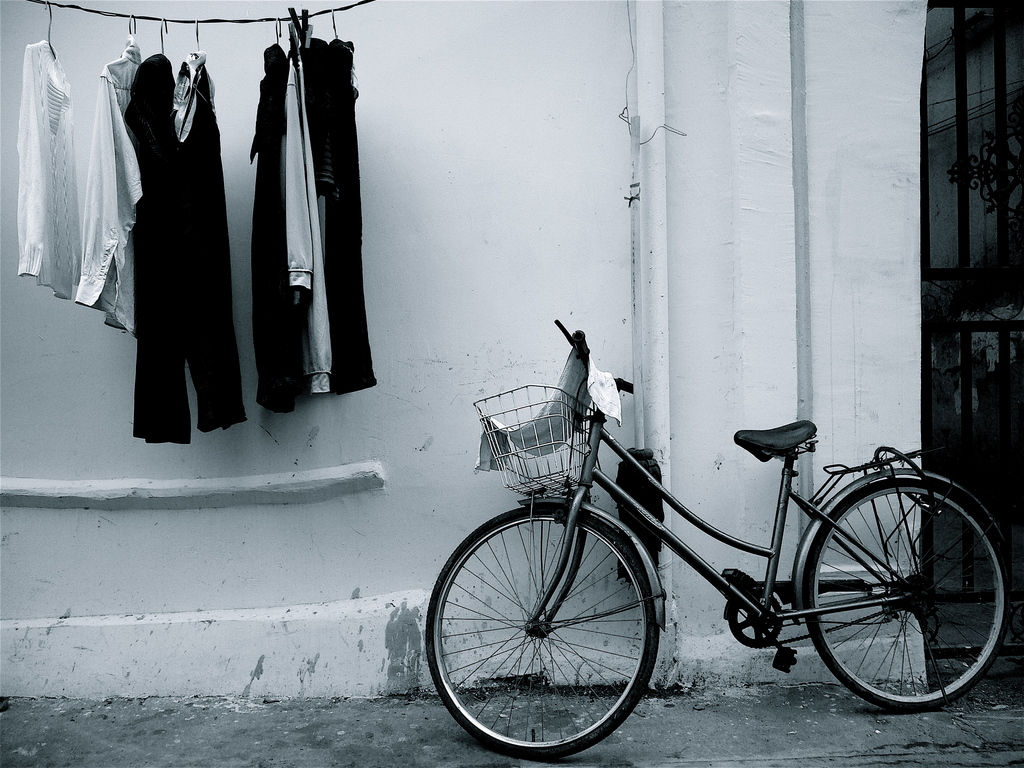Bike_toward: (393, 369, 991, 755)
